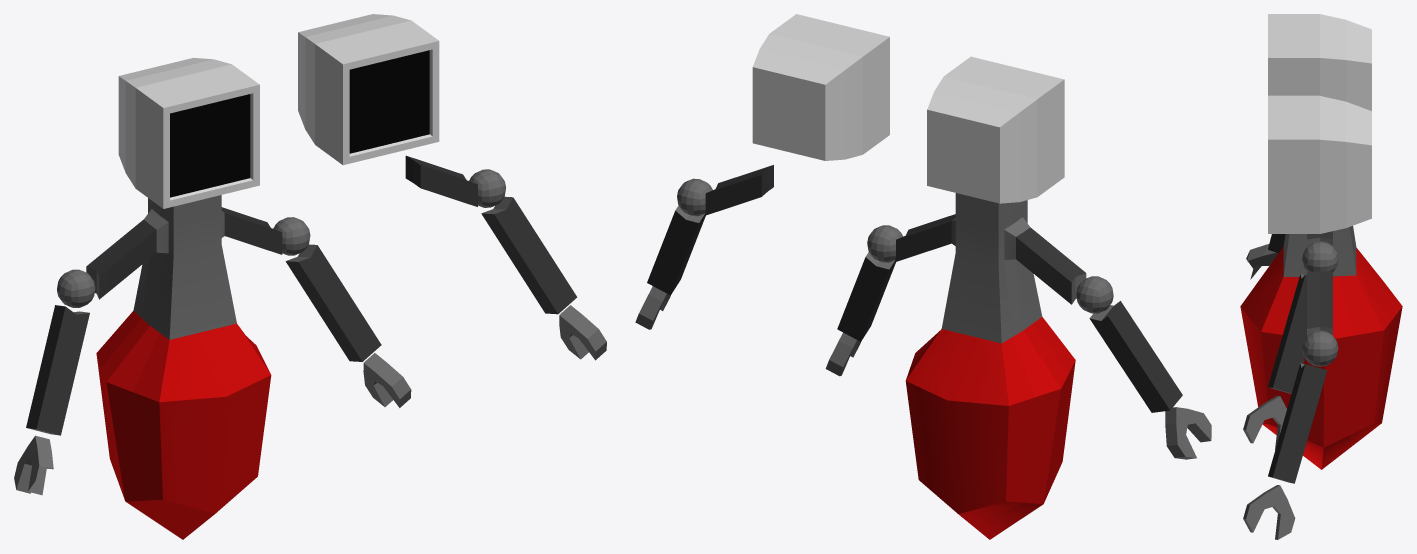
Rendered from Models only, crowdbot, arm, head.FBX.
The picture shows the model from 3 angles, left to right: view 1: azimuth 30°, elevation 25°; view 2: azimuth 150°, elevation 25°; view 3: azimuth 270°, elevation 25°; orthographic projection. The views are drawn at different scales.
Visible parts, largest first — view 1: Crowd_bot, Crowd_Bot_Head, Crowd_Bot_Arm; view 2: Crowd_bot, Crowd_Bot_Head, Crowd_Bot_Arm; view 3: Crowd_bot, Crowd_Bot_Head, Crowd_Bot_Arm.
Boxes of the visible parts, x1=… form: Crowd_bot: x1=14, y1=57, x2=411, y2=539; Crowd_Bot_Head: x1=298, y1=14, x2=439, y2=165; Crowd_Bot_Arm: x1=405, y1=155, x2=606, y2=360; Crowd_bot: x1=825, y1=56, x2=1211, y2=539; Crowd_Bot_Head: x1=752, y1=14, x2=889, y2=160; Crowd_Bot_Arm: x1=635, y1=165, x2=773, y2=329; Crowd_bot: x1=1240, y1=14, x2=1402, y2=469; Crowd_Bot_Head: x1=1268, y1=95, x2=1371, y2=233; Crowd_Bot_Arm: x1=1243, y1=271, x2=1338, y2=539.
Bounding box in the file's own units: 180 × 138 × 46.8.
